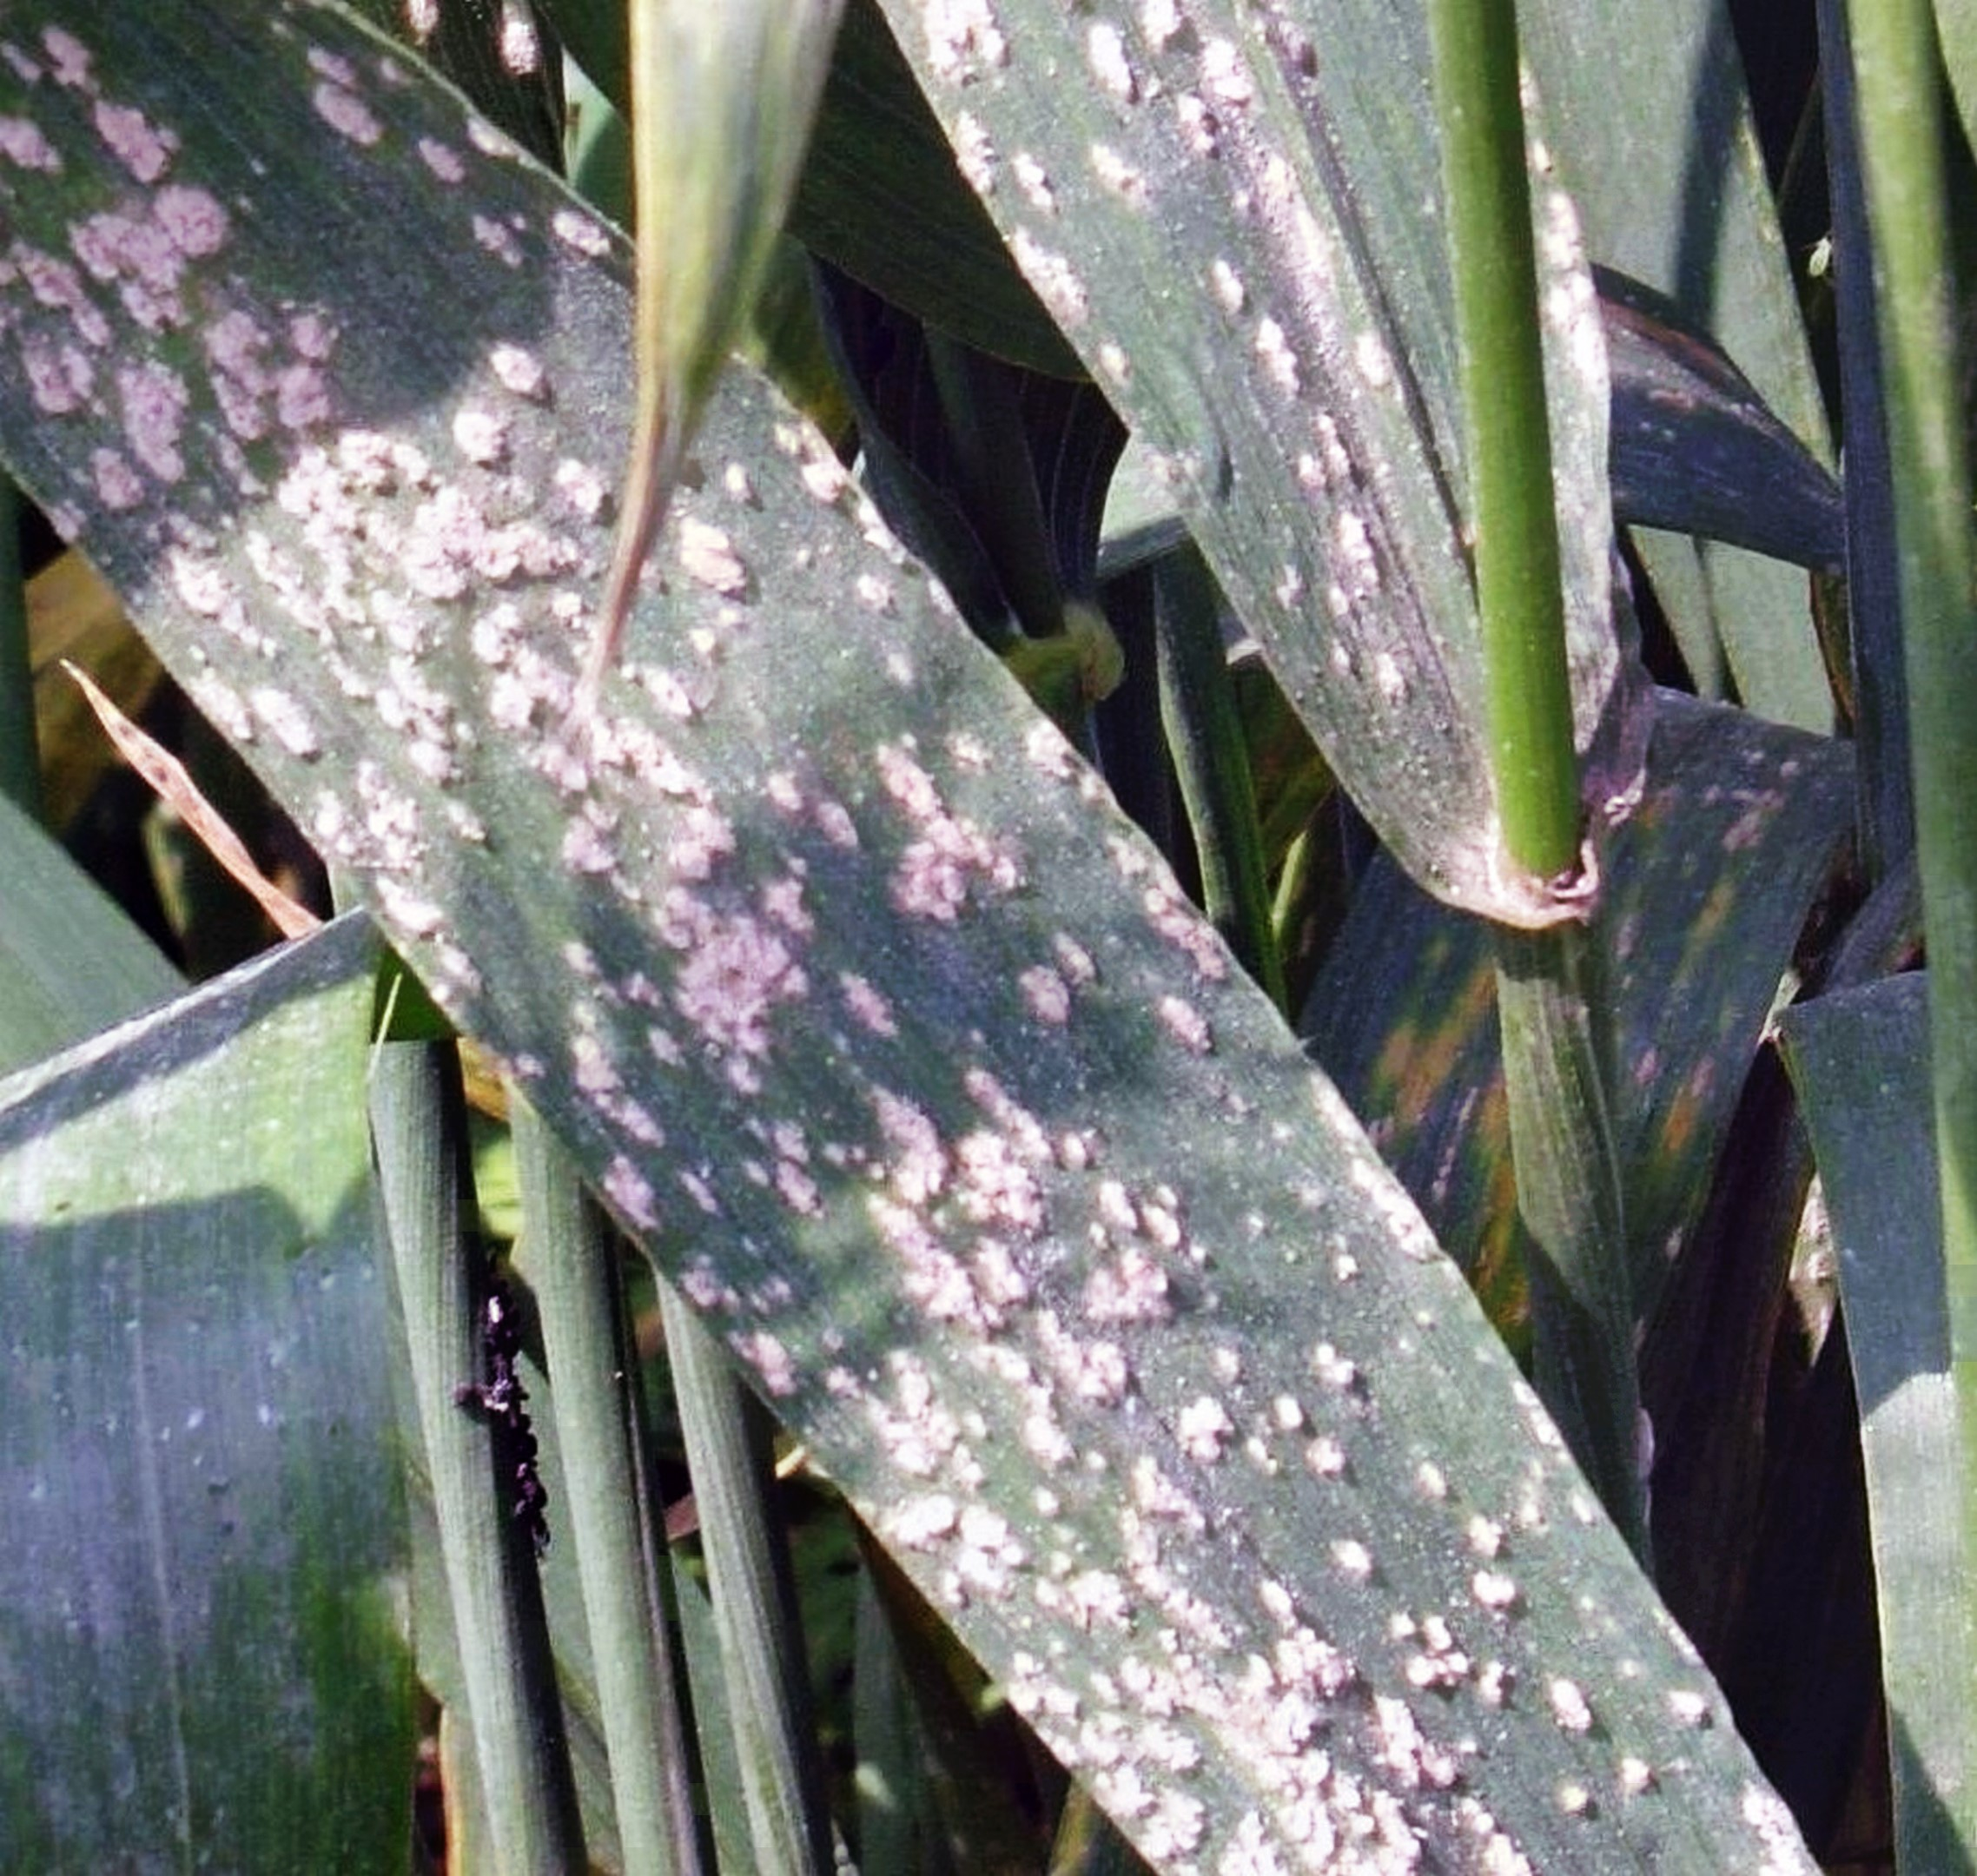Powdery Mildew: (183, 386, 1566, 1872)
